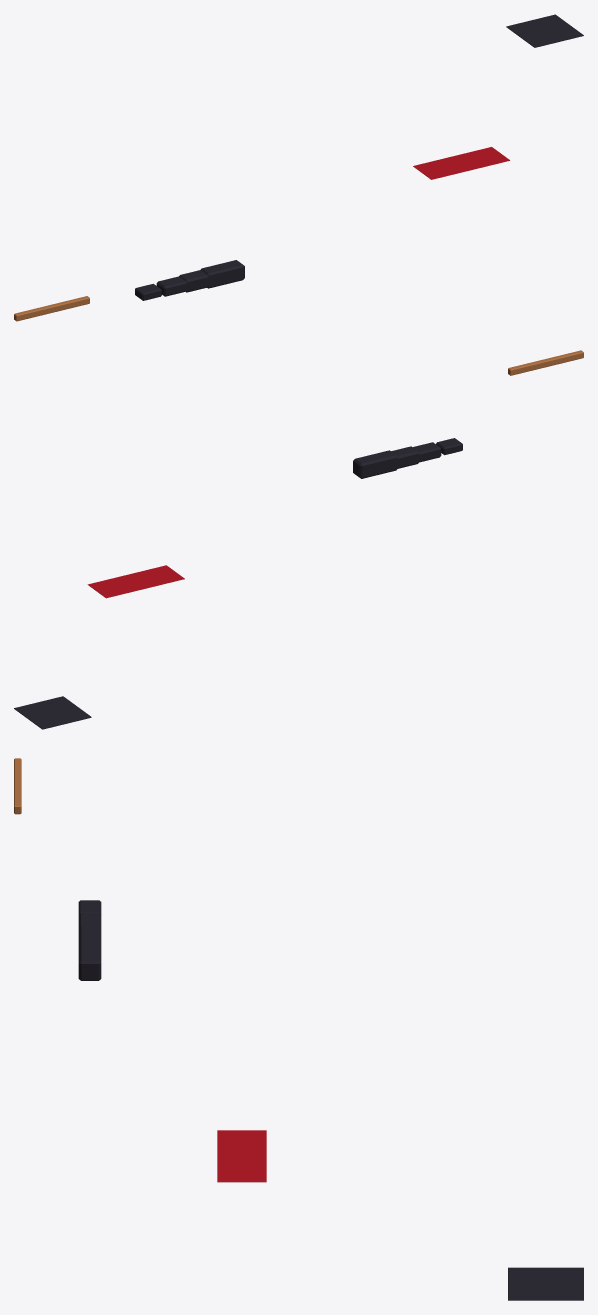
Rendered from D-MAIN.w4.glb.
3 renders of one model, top to bottom at view 1: azimuth 30°, elevation 25°; view 2: azimuth 210°, elevation 25°; view 3: azimuth 270°, elevation 25°, orthographic. The views are drawn at different scales.
Parts seen in each view (by area): view 1: pal_uiDark.002, pal_blood.002, pal_woodWarm.002; view 2: pal_uiDark.002, pal_blood.002, pal_woodWarm.002; view 3: pal_uiDark.002, pal_blood.002.
Part boxes in pixels (x1,y1,x2,y2): pal_uiDark.002: (135, 14, 583, 300); pal_blood.002: (413, 147, 509, 179); pal_woodWarm.002: (14, 296, 89, 321); pal_uiDark.002: (14, 438, 462, 729); pal_blood.002: (87, 565, 184, 598); pal_woodWarm.002: (508, 350, 583, 375); pal_uiDark.002: (78, 900, 583, 1300); pal_blood.002: (217, 1130, 266, 1182).
Bounding box in the file's own units: 30.5 × 1.73 × 15.
